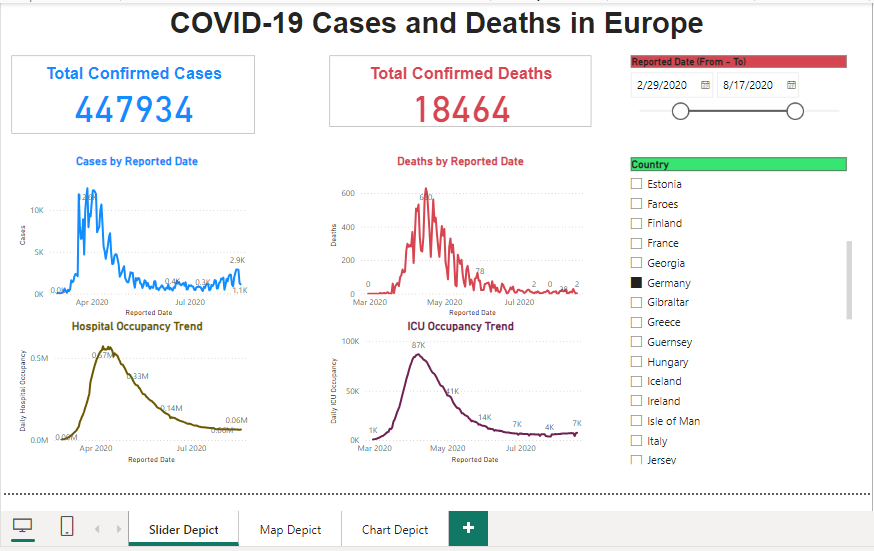

The dashboard page shown, as its layout file describes it:
{"tool":"powerbi","page":{"name":"Slider Depict","canvas":[1280,720],"ordinal":0},"visuals":[{"type":"textbox","box":[10,0,1260,71.4],"z":0},{"type":"lineChart","fields":{"Category":["covid_reporting cases_and_deaths.reported_date"],"Y":["Sum(covid_reporting cases_and_deaths.case_count)"]},"box":[20,221.4,358.6,244.3],"z":1000},{"type":"lineChart","fields":{"Category":["covid_reporting cases_and_deaths.reported_date"],"Y":["Sum(covid_reporting cases_and_deaths.death_count)"]},"box":[477.1,221.4,395.7,244.3],"z":2000},{"type":"slicer","fields":{"Values":["covid_reporting cases_and_deaths.country"]},"box":[912.9,221.4,342.9,461.4],"z":3000},{"type":"slicer","fields":{"Values":["covid_reporting cases_and_deaths.reported_date"]},"box":[912.9,71.4,342.9,150],"z":4000},{"type":"cardVisual","fields":{"Data":["Sum(covid_reporting cases_and_deaths.case_count)"]},"box":[10,71.4,368.6,125.7],"z":5000},{"type":"cardVisual","fields":{"Data":["Sum(covid_reporting cases_and_deaths.death_count)"]},"box":[477.1,71.4,395.7,115.7],"z":6000},{"type":"lineChart","title":"Hospital Occupancy Trend","fields":{"Category":["covid_reporting hospital_admissions_daily.reported_date"],"Y":["Sum(covid_reporting hospital_admissions_daily.daily_hospital_occupancy_count)"]},"box":[20,465,359,217],"z":7000},{"type":"lineChart","title":"ICU Occupancy Trend","fields":{"Category":["covid_reporting hospital_admissions_daily.reported_date"],"Y":["Sum(covid_reporting hospital_admissions_daily.daily_icu_occupancy_count)"]},"box":[477,465,396,217],"z":8000}]}

Visuals, with their boxes on the page's 1280x720 design canvas (x1, y1, x2, y2). These are canvas units, not pixel positions in the 874x551 screenshot, which may show the page scaled, cropped or inside an application window:
textbox: 10,0,1270,71
lineChart - covid_reporting cases_and_deaths.reported_date x Sum(covid_reporting cases_and_deaths.case_count): 20,221,379,466
lineChart - covid_reporting cases_and_deaths.reported_date x Sum(covid_reporting cases_and_deaths.death_count): 477,221,873,466
slicer - covid_reporting cases_and_deaths.country: 913,221,1256,683
slicer - covid_reporting cases_and_deaths.reported_date: 913,71,1256,221
cardVisual - Sum(covid_reporting cases_and_deaths.case_count): 10,71,379,197
cardVisual - Sum(covid_reporting cases_and_deaths.death_count): 477,71,873,187
"Hospital Occupancy Trend" lineChart: 20,465,379,682
"ICU Occupancy Trend" lineChart: 477,465,873,682
